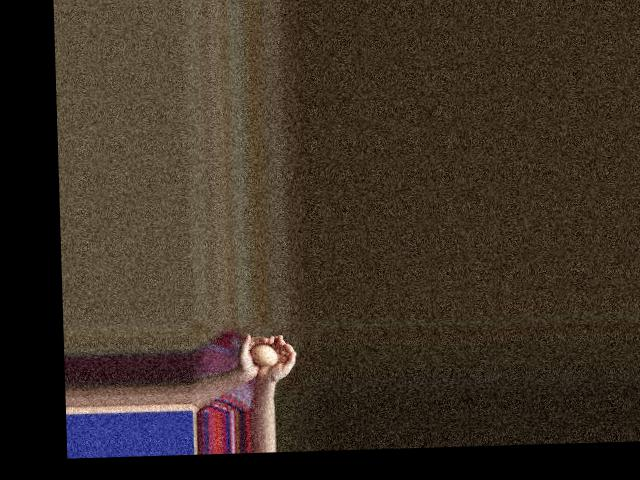egg: (250, 343, 277, 365)
